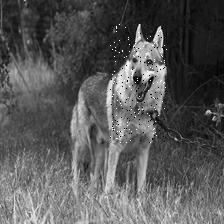WOLF: (109, 25, 166, 144)
